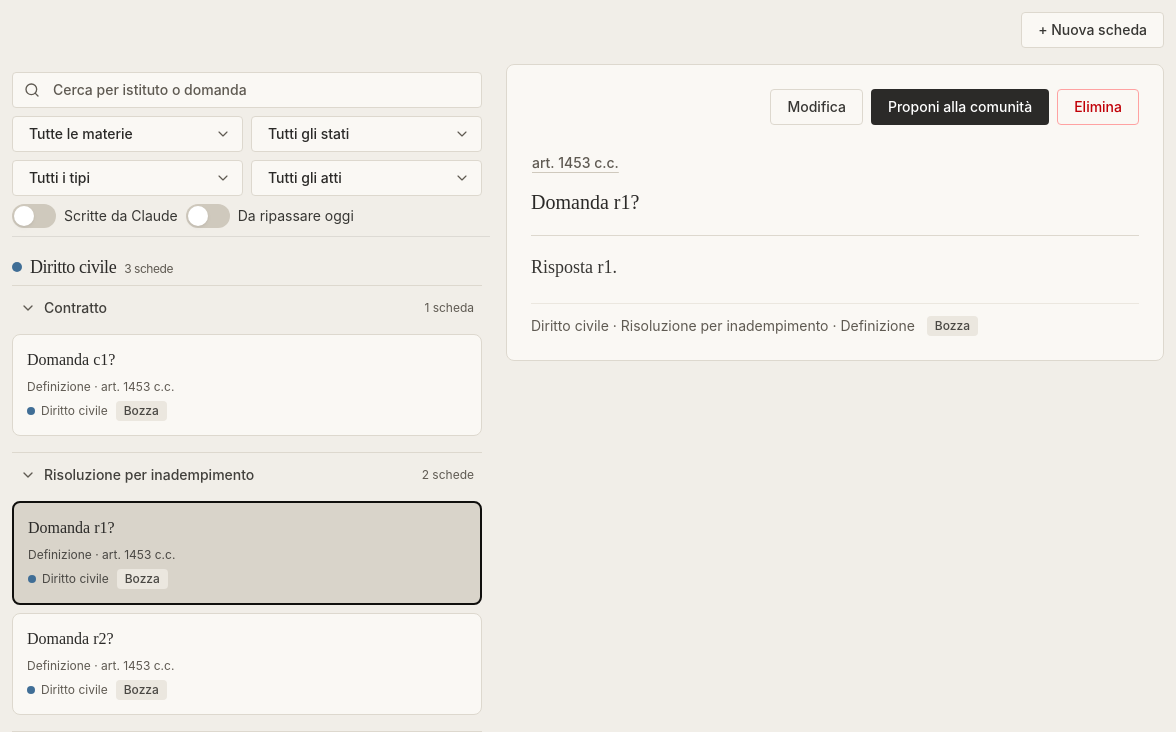
Test: «Le mie schede», delete › says plainly when the card is gone already
Click the button "Elimina" at [1098, 107], box [1057,89,1139,125]
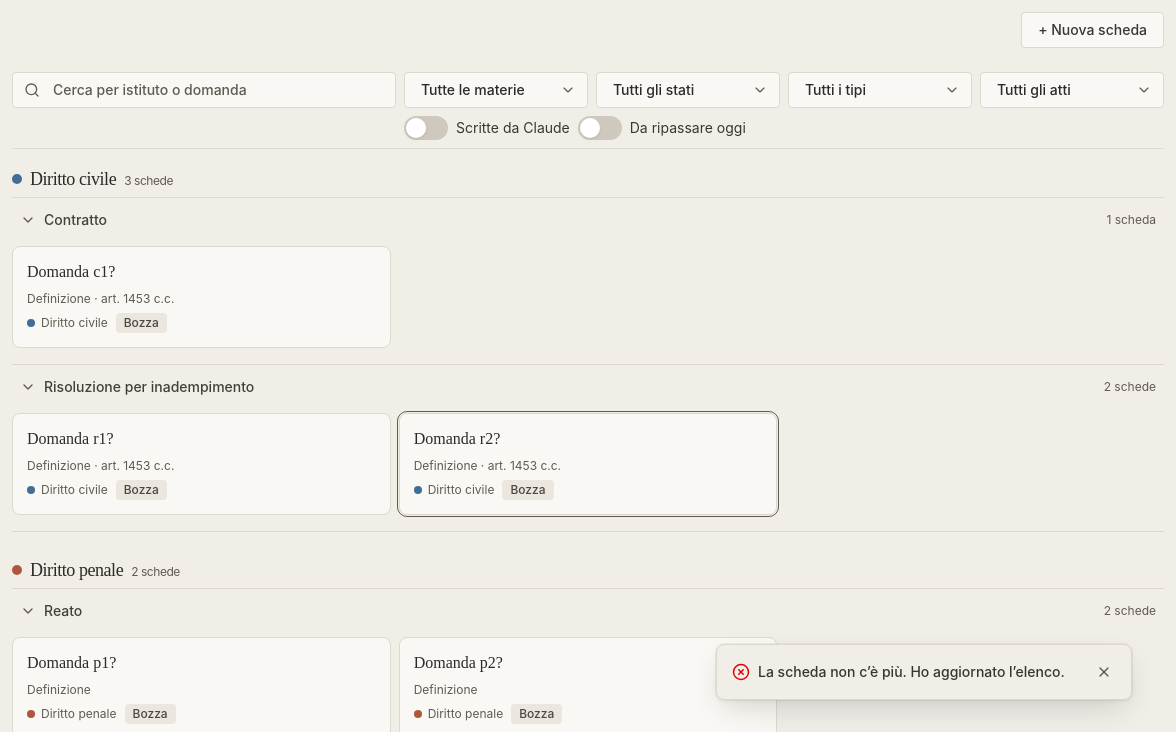
Check: the text "La scheda non c’è più. Ho aggiornato l’elenco." is shown, box [758,663,1065,680]
